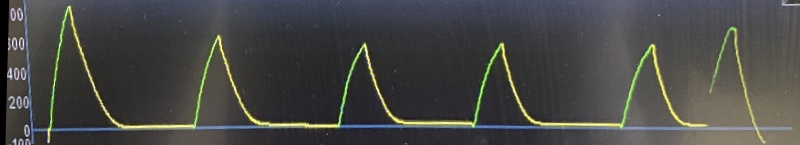normal_volume: (43, 27, 711, 139)
